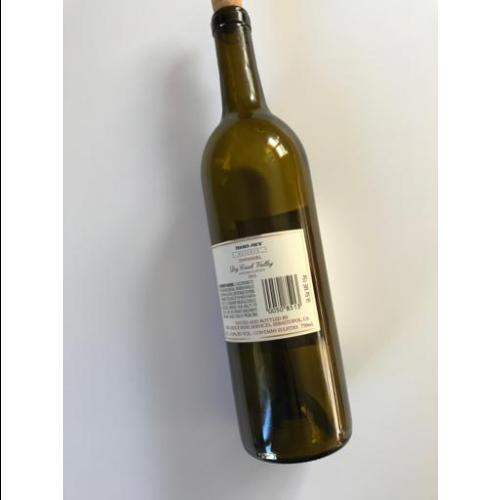glass: (202, 2, 351, 467)
